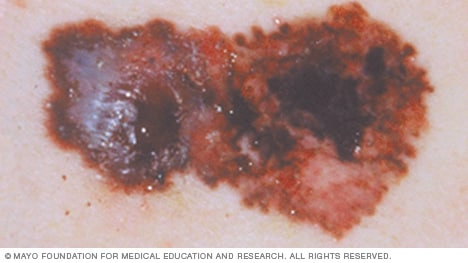Melanoma: (43, 1, 435, 240)
